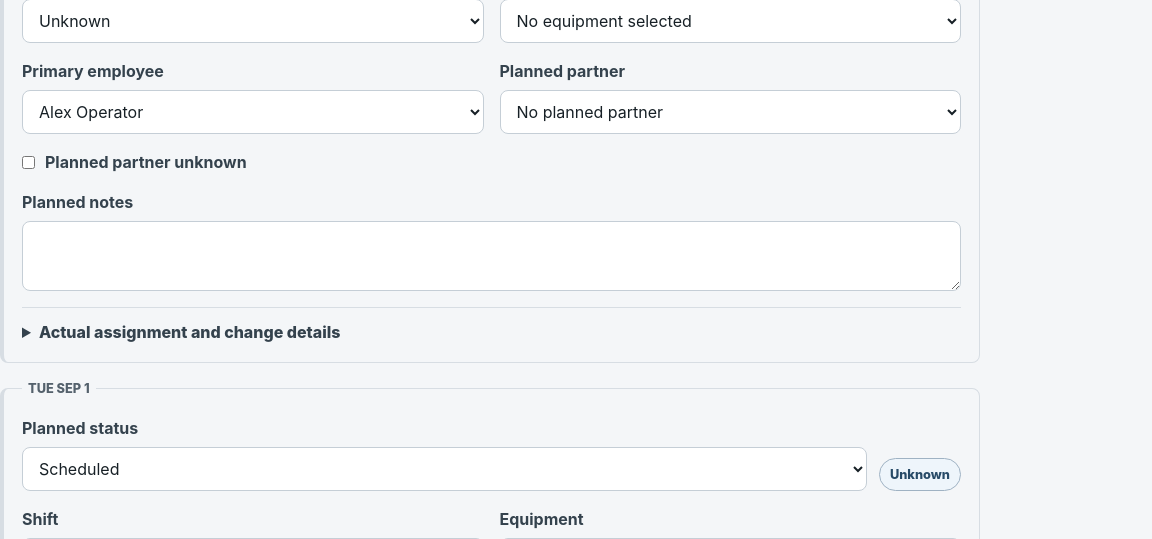
Scenario: ScheduleRangeForm › keeps actual assignment fields available without making the planned list horizontal
This screenshot has width=1152, height=539.
(page scrolled)
Click the heading "Actual assignment and change details". click: (190,332)
box: [39,322,340,342]
(page scrolled)
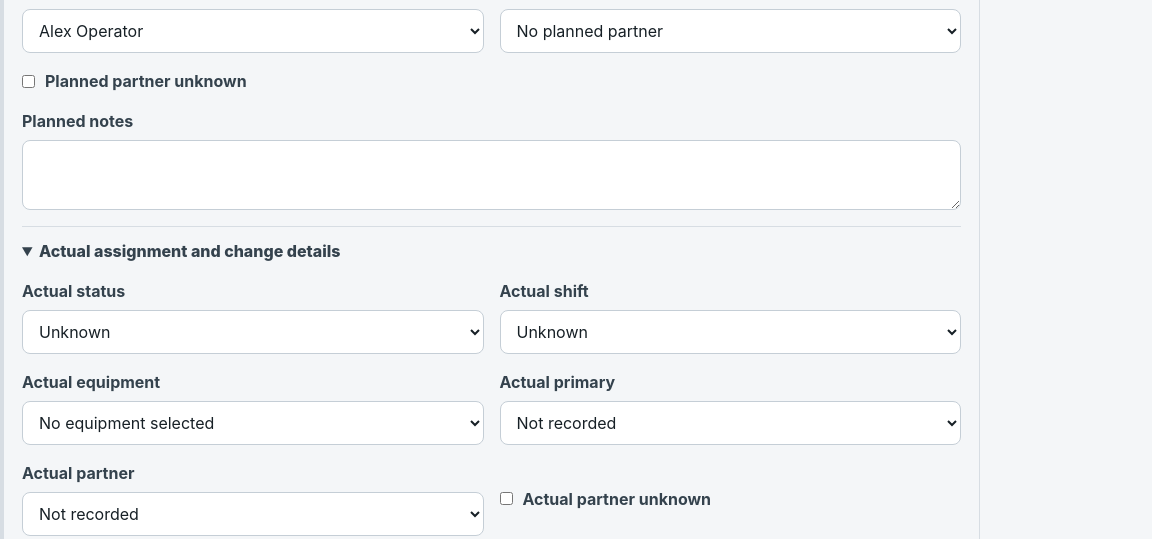
expect the dropdown labelled "Actual shift" shows "Unknown": met, box [500,310,961,354]
